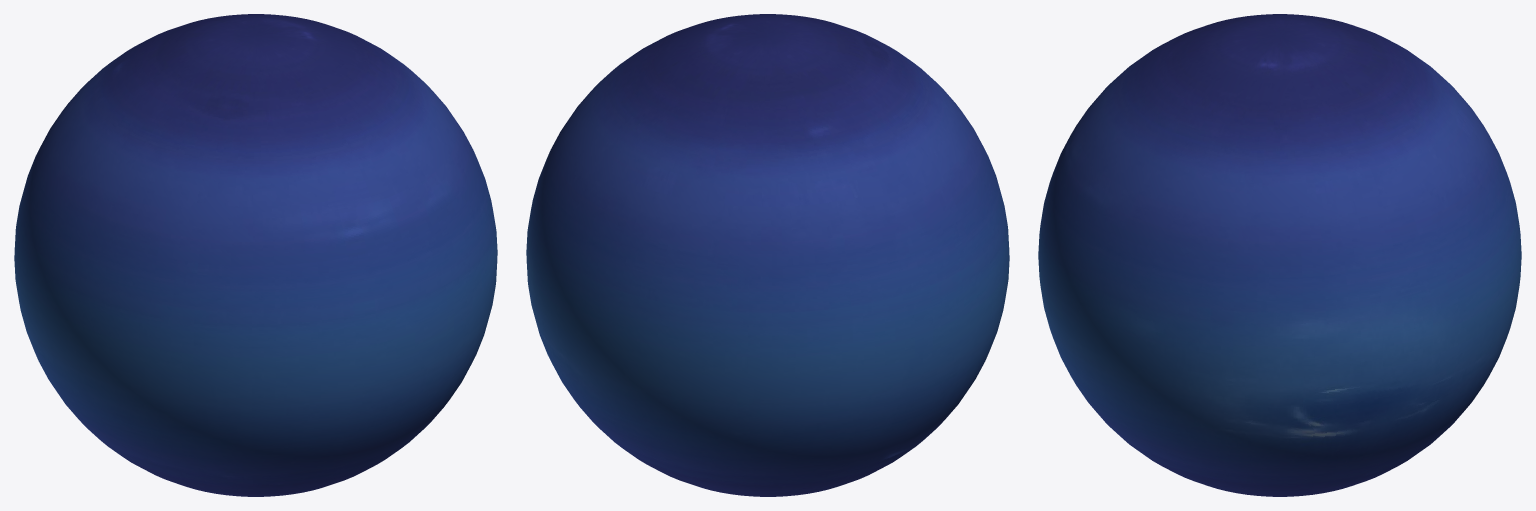
The model's file is neptune.glb.
The picture shows the model from 3 angles, left to right: view 1: azimuth 30°, elevation 25°; view 2: azimuth 150°, elevation 25°; view 3: azimuth 270°, elevation 25°; orthographic projection.
Visible parts, largest first — view 1: Sphere; view 2: Sphere; view 3: Sphere.
Part boxes in pixels (<box>): Sphere: <box>14,14,497,496</box>; Sphere: <box>526,14,1009,496</box>; Sphere: <box>1038,14,1521,496</box>.
Bounding box in the file's own units: 2 × 2 × 2.
1 material, 1 textured.
